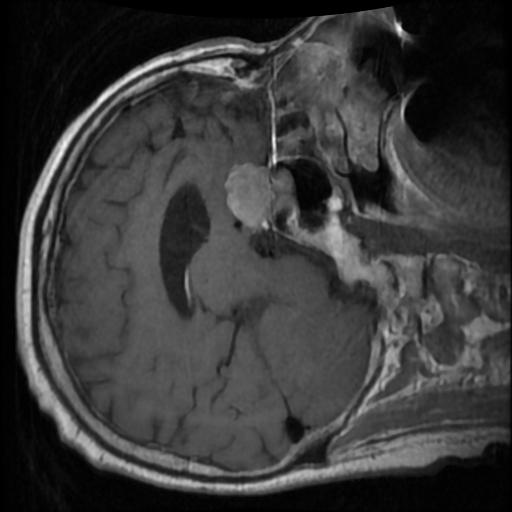pituitary tumour: (223, 164, 292, 230)
